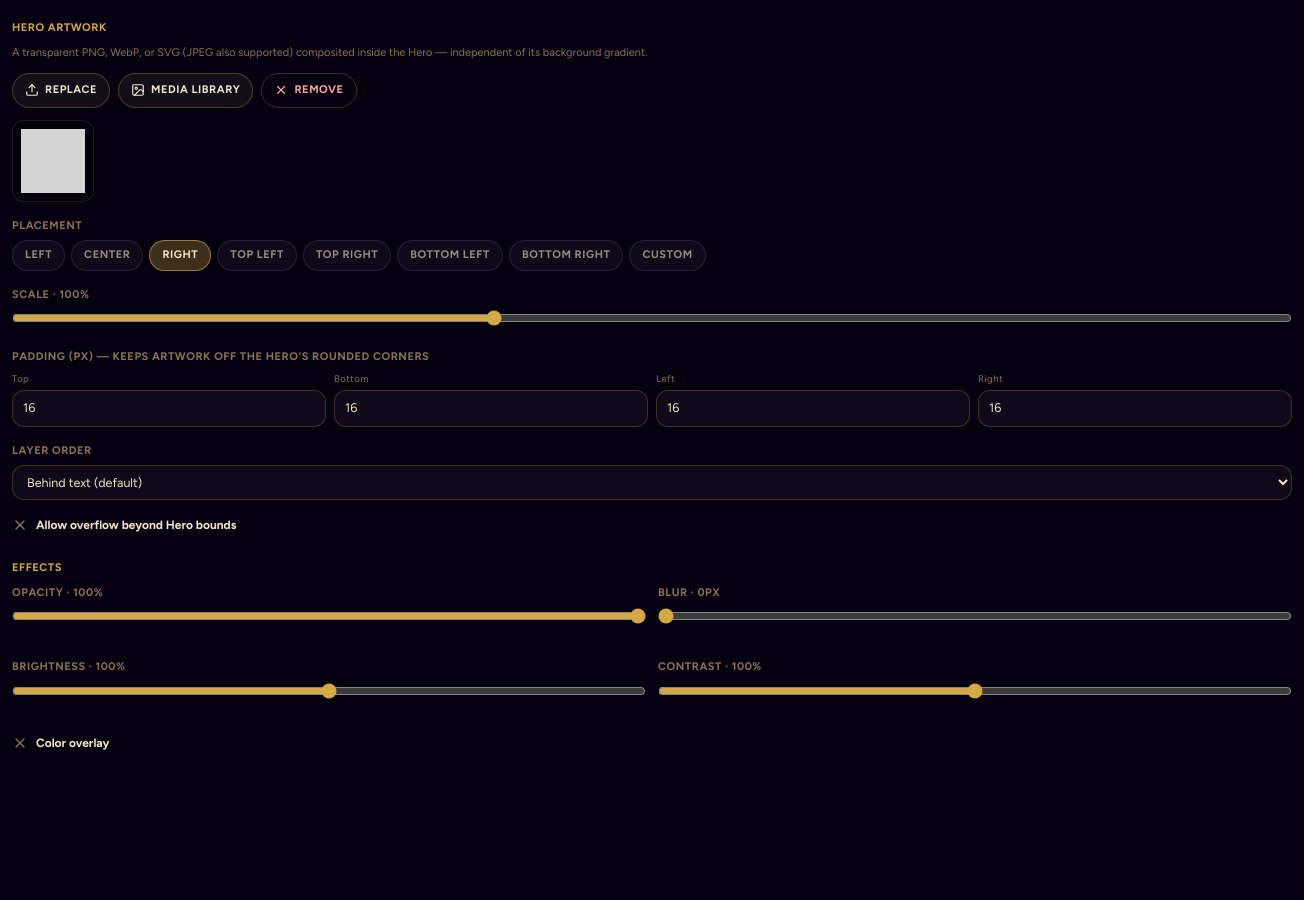
Test: Remove clears artwork back to no-artwork state (upload/library re-appear as the only controls)
What coordinates should you click on to do the following:
click the button with test id "hero-artwork-remove"
I would click on:
 (309, 90)
Its box is [262,73,357,108].
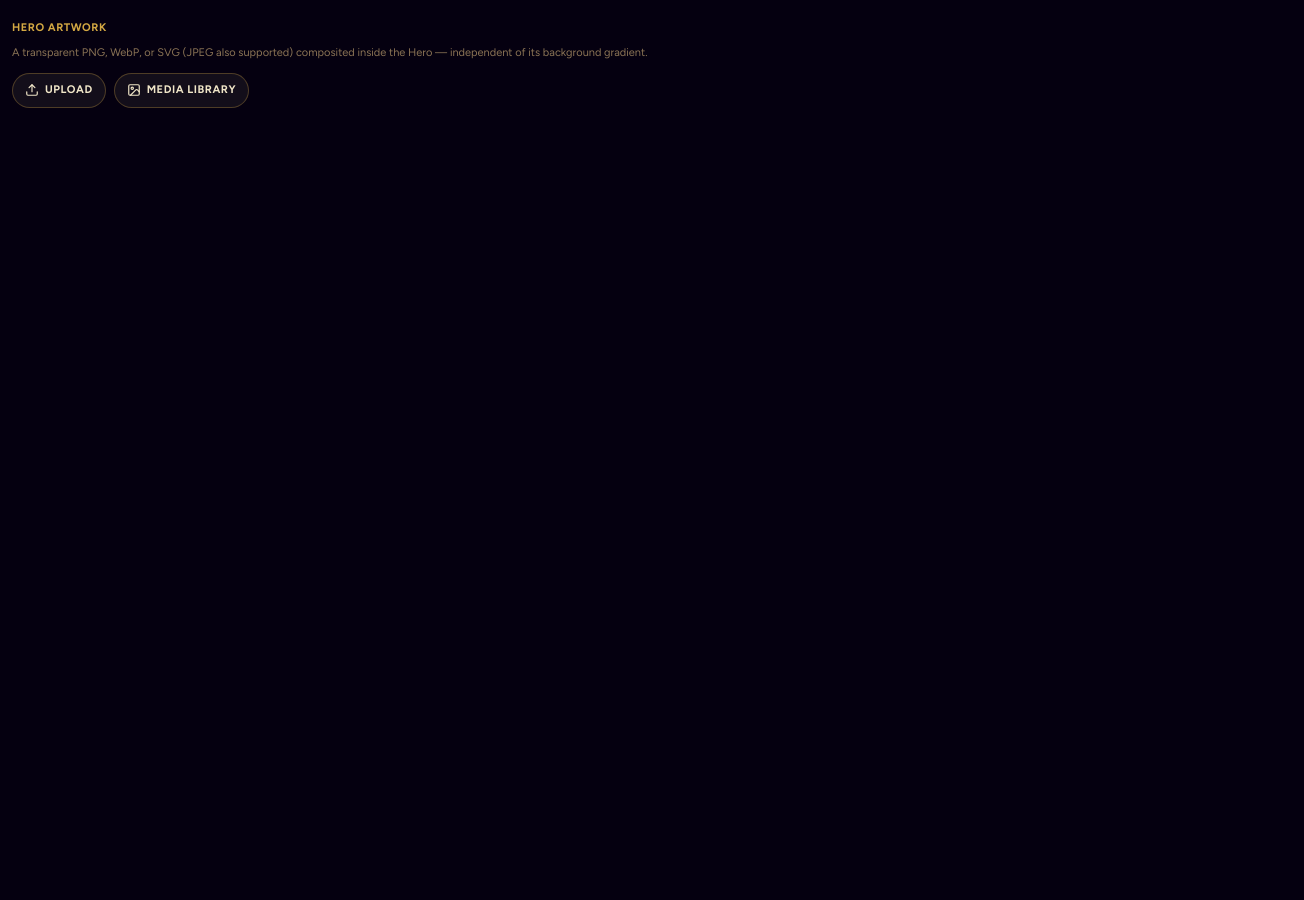
Expected: the element with test id "hero-artwork-current-preview" is gone
Expected: the slider with test id "hero-artwork-scale" is gone
